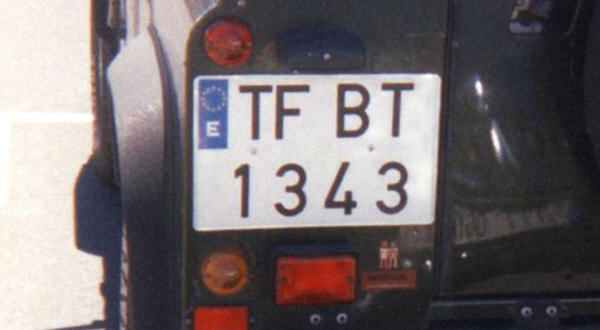license_plate: (189, 73, 443, 231)
